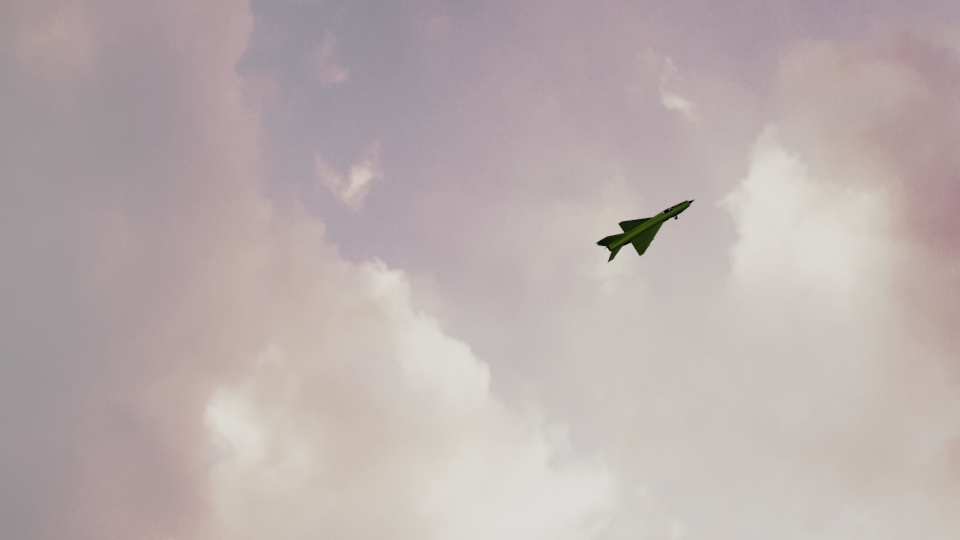plane: (594, 196, 696, 261)
